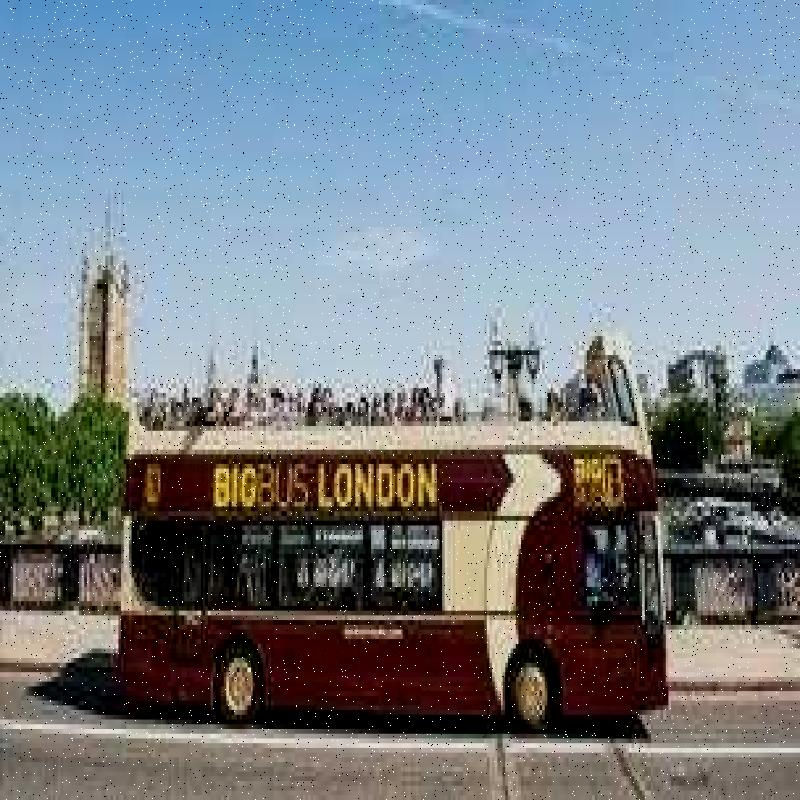bus: (119, 384, 697, 761)
